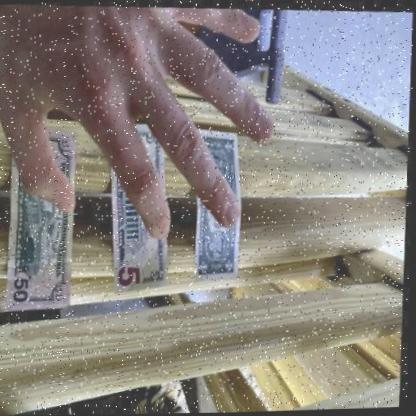fifty-back: (9, 129, 77, 310)
five-back: (110, 122, 170, 292)
one-back: (193, 127, 242, 280)
